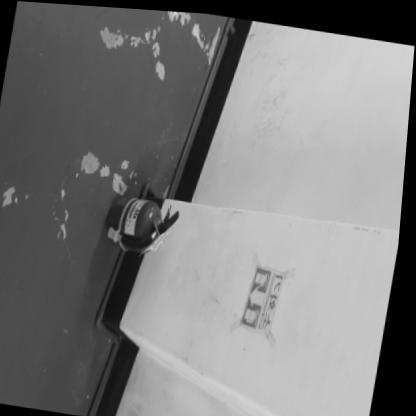FE: (104, 188, 187, 256)
